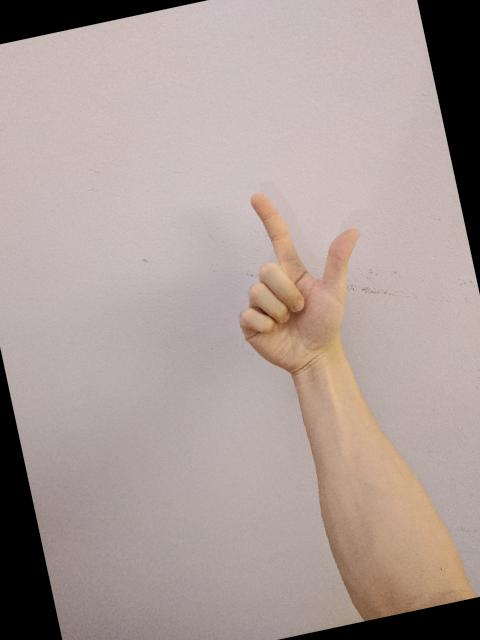L: (209, 168, 391, 382)
